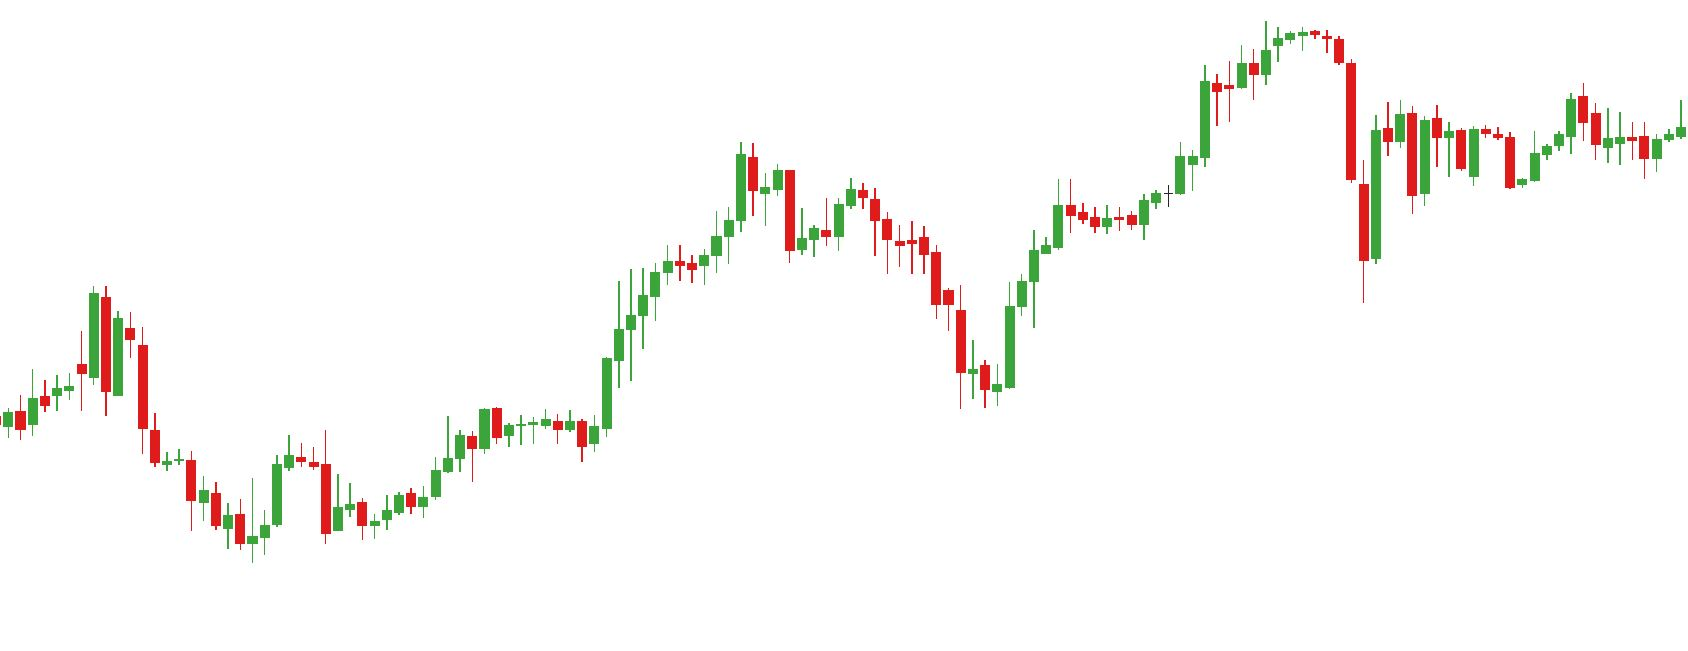buy: (1136, 117, 1384, 305)
